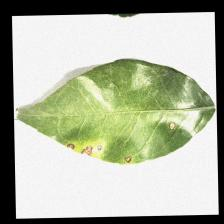canker: (56, 118, 186, 168)
